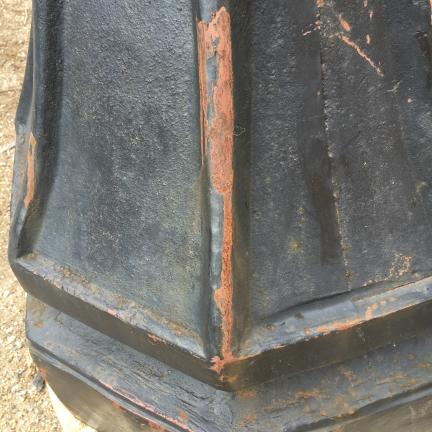besi_tidak_karat: (231, 3, 429, 332), (38, 4, 208, 337)
karat: (197, 7, 233, 354)
